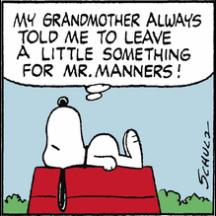snoopy: (42, 95, 144, 212)
